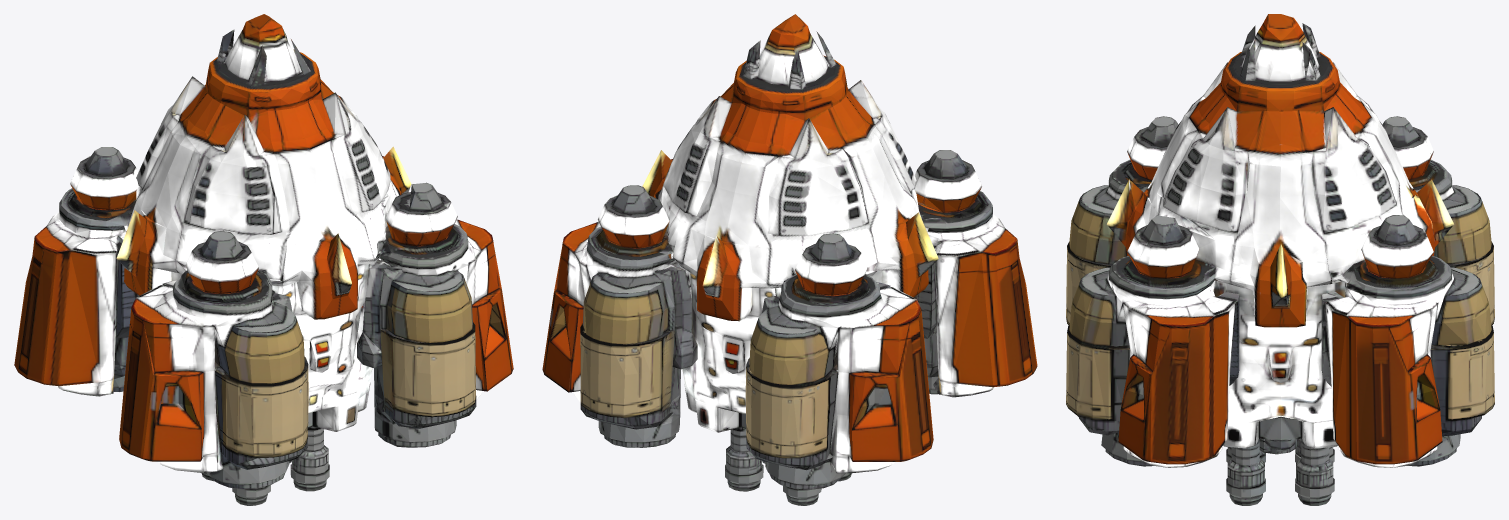
File: Meshy_AI_Orange_Comet_Rocket_0529140747_texture.glb
3 renders of one model, left to right at view 1: azimuth 30°, elevation 25°; view 2: azimuth 150°, elevation 25°; view 3: azimuth 270°, elevation 25°, orthographic. The views are drawn at different scales.
Bounding box in the file's own units: 1.62 × 1.91 × 1.57.
Materials: 1 (1 with a texture image).
